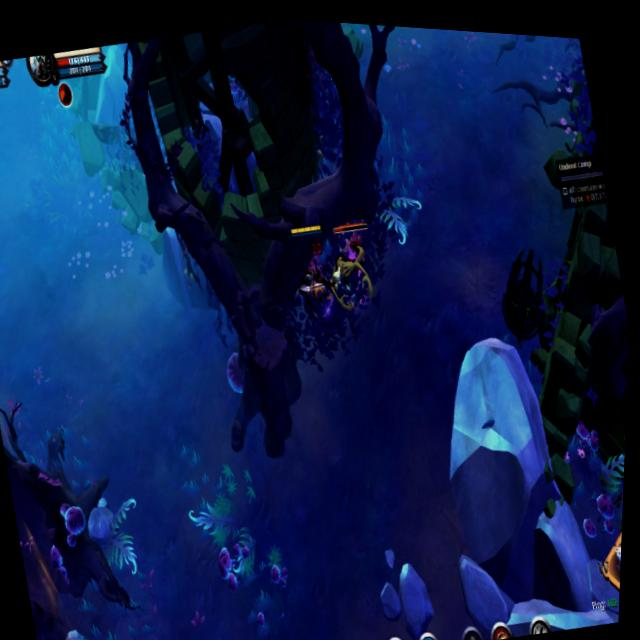ore: (324, 211, 386, 301)
red: (285, 217, 340, 305)
